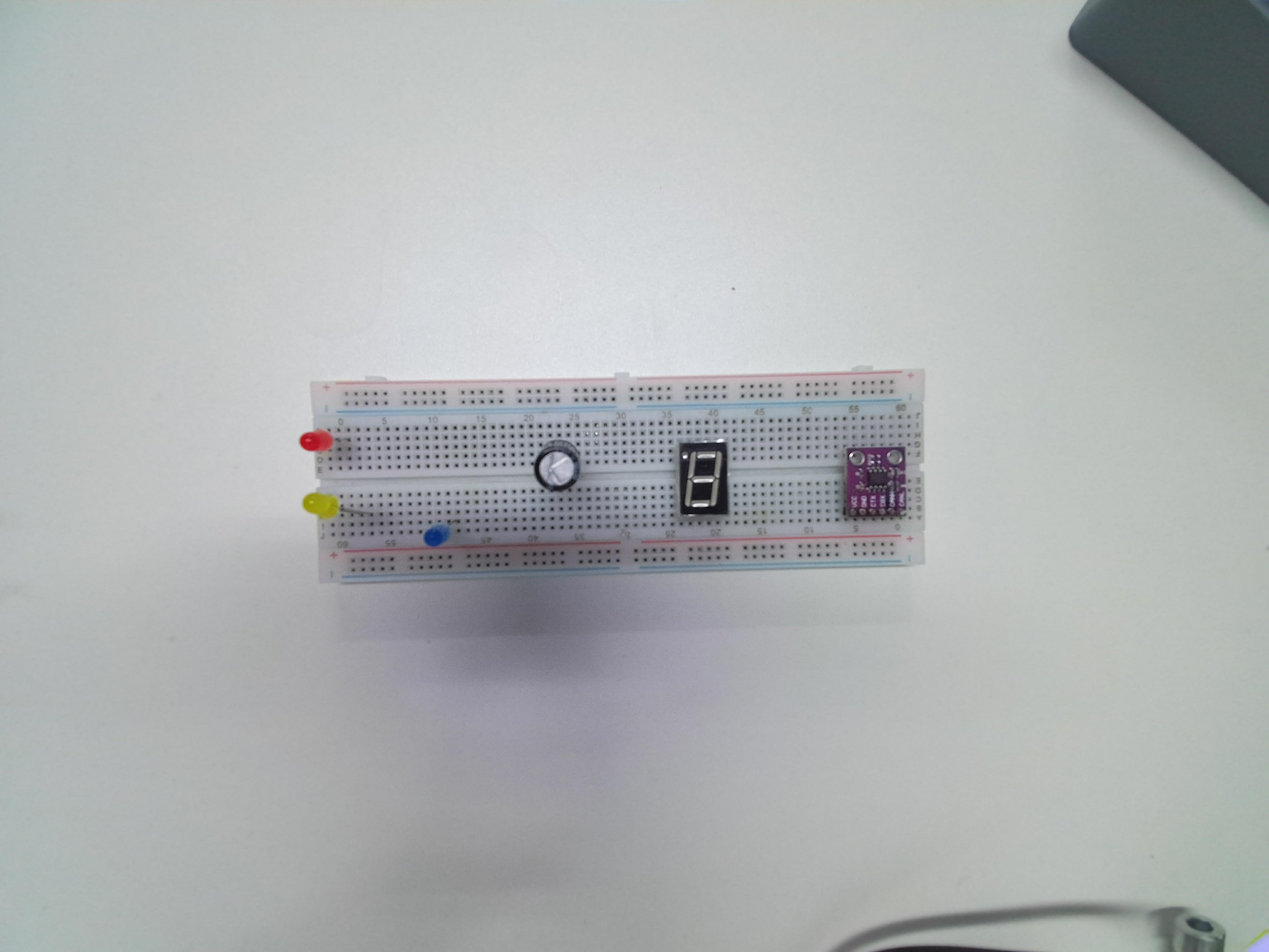base: (304, 366, 929, 586)
blue-led: (424, 524, 450, 547)
capacitor: (535, 441, 579, 492)
digit-board: (678, 440, 729, 515)
purple-board: (843, 445, 909, 520)
red-led: (300, 429, 334, 453)
yellow-led: (303, 491, 340, 518)
